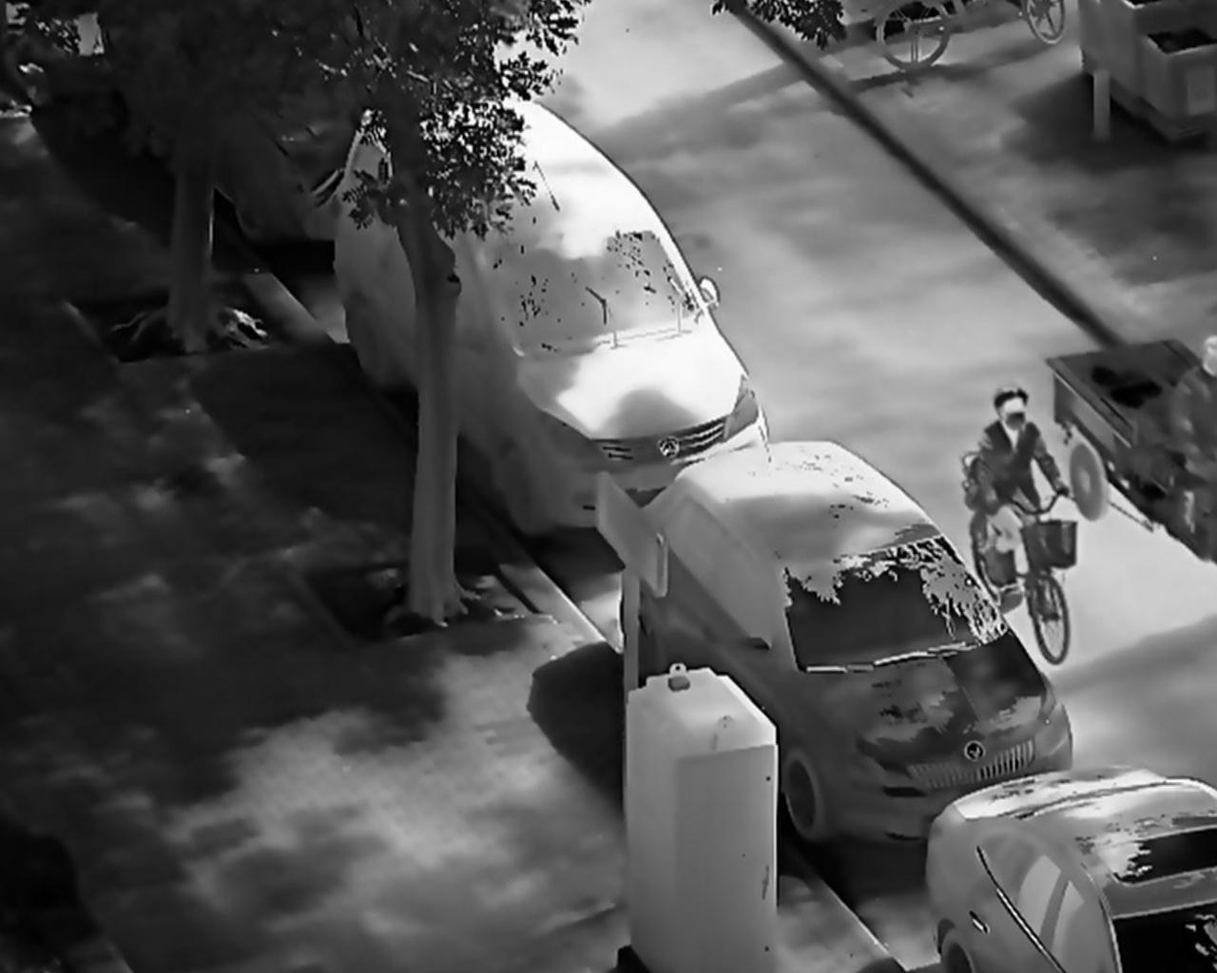person: (965, 381, 1080, 585)
